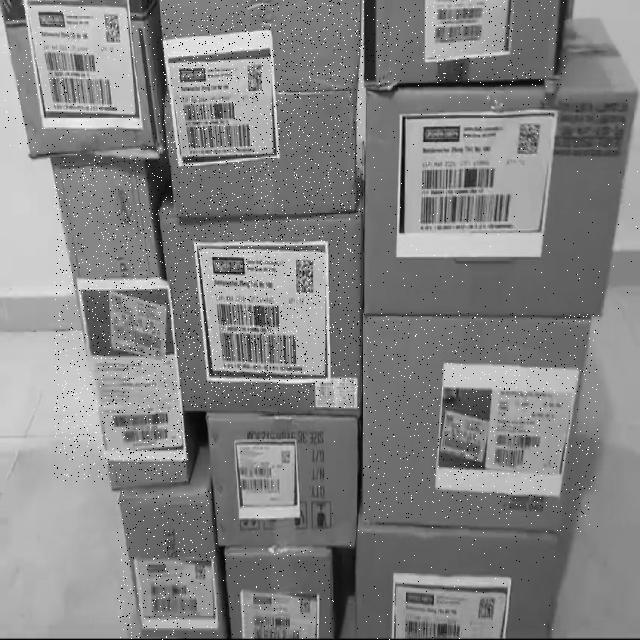BoxFace: (363, 90, 640, 314), (363, 313, 600, 532), (54, 155, 189, 482), (161, 0, 364, 215), (161, 210, 361, 408), (2, 0, 161, 156), (357, 519, 555, 640), (206, 409, 362, 556), (366, 0, 566, 87), (117, 491, 219, 640), (218, 550, 335, 640)
